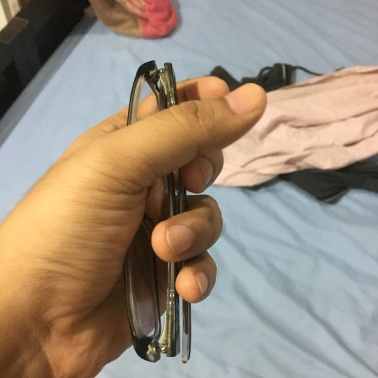glasses: (113, 68, 188, 368)
